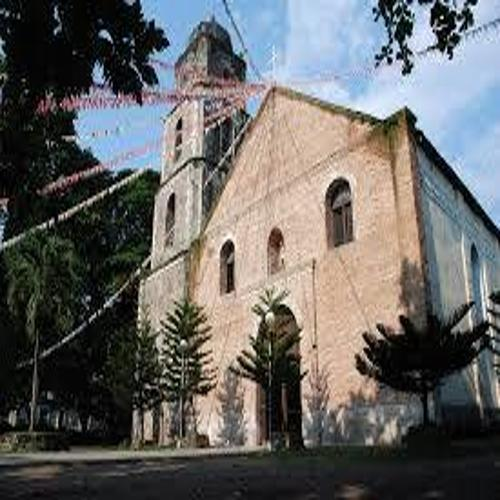San Agustin Church: (111, 12, 466, 459)
